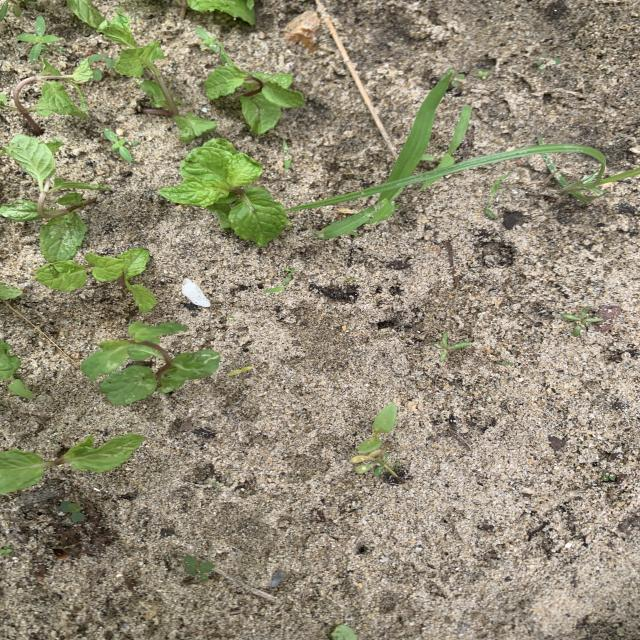crop: (70, 1, 215, 141), (159, 139, 291, 246), (0, 135, 109, 262), (82, 322, 219, 403), (0, 435, 144, 493), (35, 248, 156, 313), (206, 54, 304, 134), (0, 59, 94, 134), (1, 341, 33, 397), (183, 0, 255, 23), (1, 0, 35, 19), (332, 625, 357, 639)
weed: (315, 71, 454, 238), (290, 144, 640, 210), (438, 105, 471, 169), (359, 403, 395, 452), (18, 16, 59, 59), (352, 451, 399, 475), (561, 308, 601, 335), (432, 333, 470, 360), (105, 130, 138, 161), (486, 175, 508, 217), (184, 556, 214, 579), (88, 55, 115, 79), (197, 28, 221, 51), (61, 501, 84, 521), (282, 140, 291, 170), (228, 367, 252, 374), (601, 471, 615, 481), (284, 267, 295, 275), (1, 547, 12, 554)
